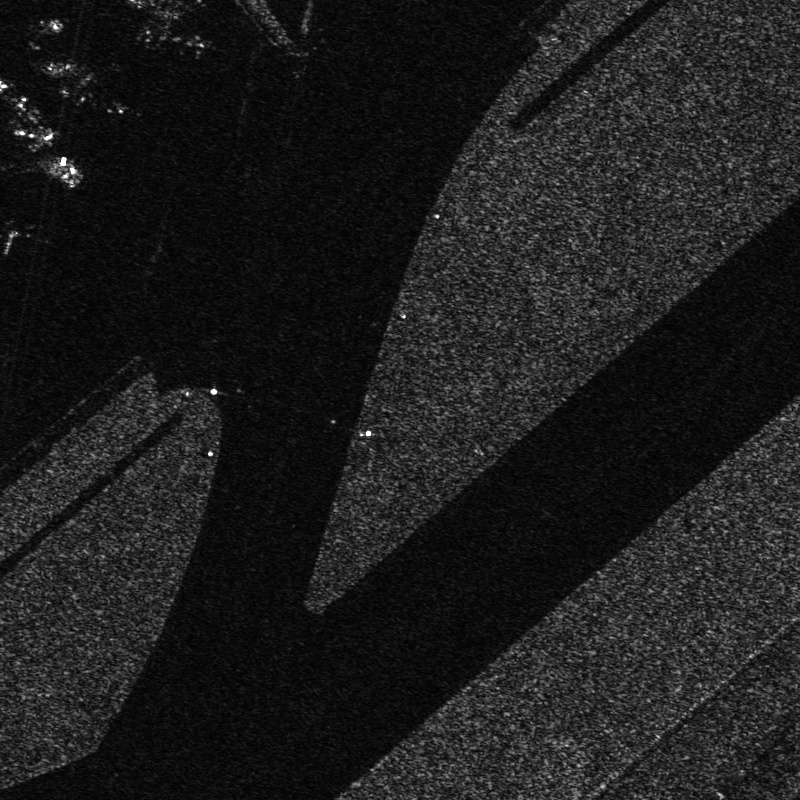Boeing737: (48, 52, 132, 122)
